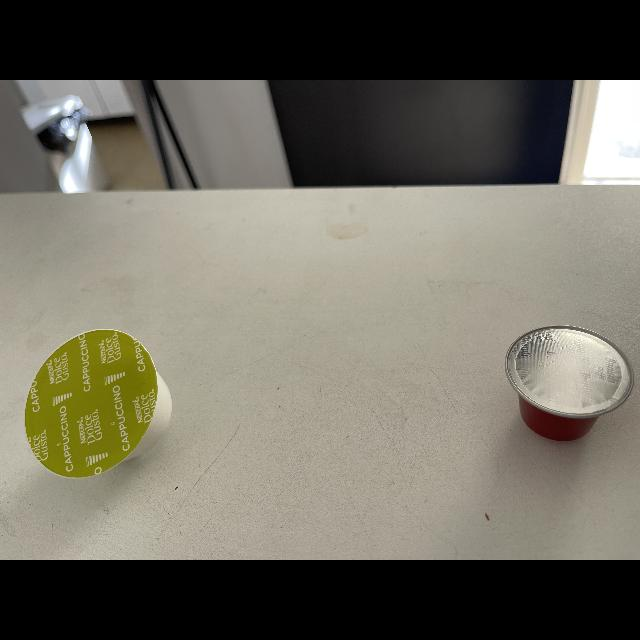intact_capsule: (19, 319, 177, 493)
